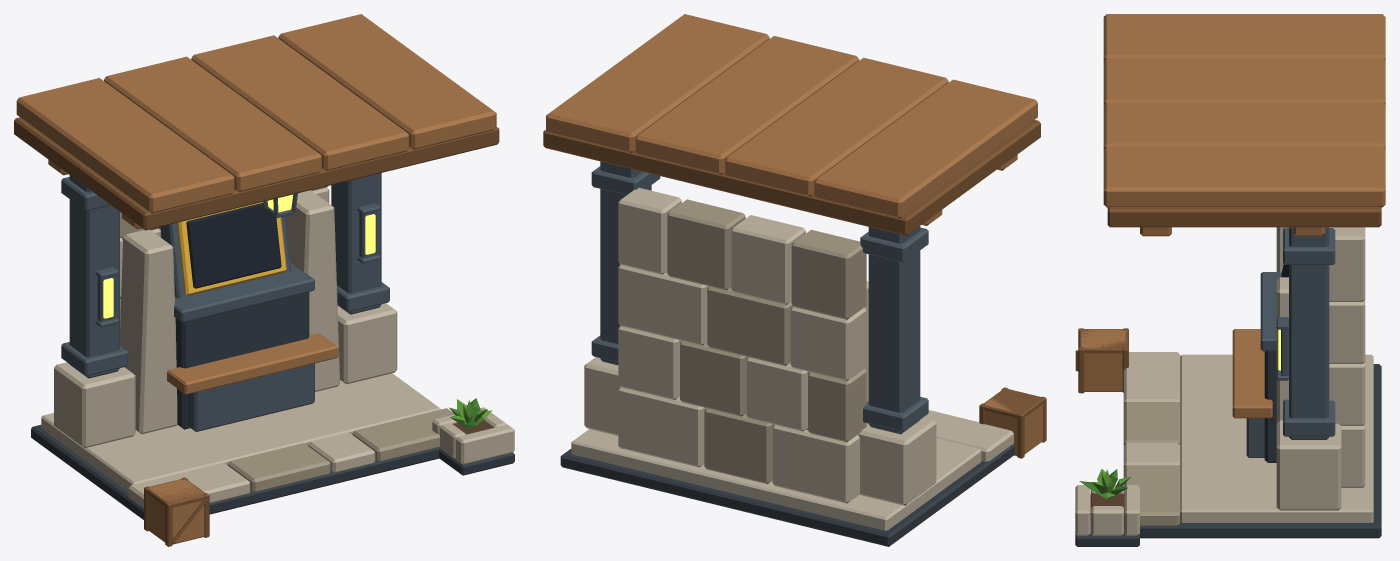
The model's file is Lobby_KioskShelter.fbx.
3 views of the same model, side by side, from view 1: azimuth 30°, elevation 25°; view 2: azimuth 150°, elevation 25°; view 3: azimuth 270°, elevation 25° (orthographic). The views are drawn at different scales.
Parts seen in each view (by area): view 1: Wood, Concrete, Frame, FrameDark, WoodDark, ConcreteDark, Screen, Props, PropsTrim, Accent_Metal, Lamp; view 2: Concrete, Wood, ConcreteDark, Frame, WoodDark, FrameDark, PropsTrim, Props; view 3: Wood, Concrete, Frame, FrameDark, WoodDark, ConcreteDark, Props, PropsTrim, Leaf, Soil.
Boxes of the visible parts, left/top/right/bottom form: Wood: left=16, top=14, right=496, bottom=394; Concrete: left=41, top=186, right=514, bottom=508; Frame: left=61, top=173, right=389, bottom=431; FrameDark: left=31, top=292, right=514, bottom=519; WoodDark: left=14, top=117, right=499, bottom=230; ConcreteDark: left=120, top=212, right=454, bottom=492; Screen: left=186, top=203, right=281, bottom=288; Props: left=147, top=479, right=204, bottom=544; PropsTrim: left=144, top=477, right=209, bottom=546; Accent_Metal: left=177, top=202, right=286, bottom=295; Lamp: left=103, top=214, right=375, bottom=318; Concrete: left=571, top=187, right=1013, bottom=530; Wood: left=546, top=14, right=1037, bottom=225; ConcreteDark: left=667, top=199, right=866, bottom=483; Frame: left=591, top=161, right=928, bottom=434; WoodDark: left=543, top=120, right=1040, bottom=235; FrameDark: left=560, top=444, right=1014, bottom=546; PropsTrim: left=979, top=387, right=1046, bottom=458; Props: left=985, top=398, right=1042, bottom=455; Wood: left=1103, top=14, right=1385, bottom=418; Concrete: left=1075, top=227, right=1373, bottom=535; Frame: left=1246, top=227, right=1335, bottom=457; FrameDark: left=1075, top=351, right=1381, bottom=546; WoodDark: left=1107, top=207, right=1381, bottom=227; ConcreteDark: left=1123, top=402, right=1179, bottom=525; Props: left=1081, top=329, right=1125, bottom=391; PropsTrim: left=1075, top=328, right=1128, bottom=393; Leaf: left=1092, top=469, right=1130, bottom=499; Soil: left=1090, top=493, right=1124, bottom=513.
Bounding box in the file's own units: 10.6 × 9.79 × 7.7.
